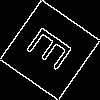E: (25, 25, 82, 78)
